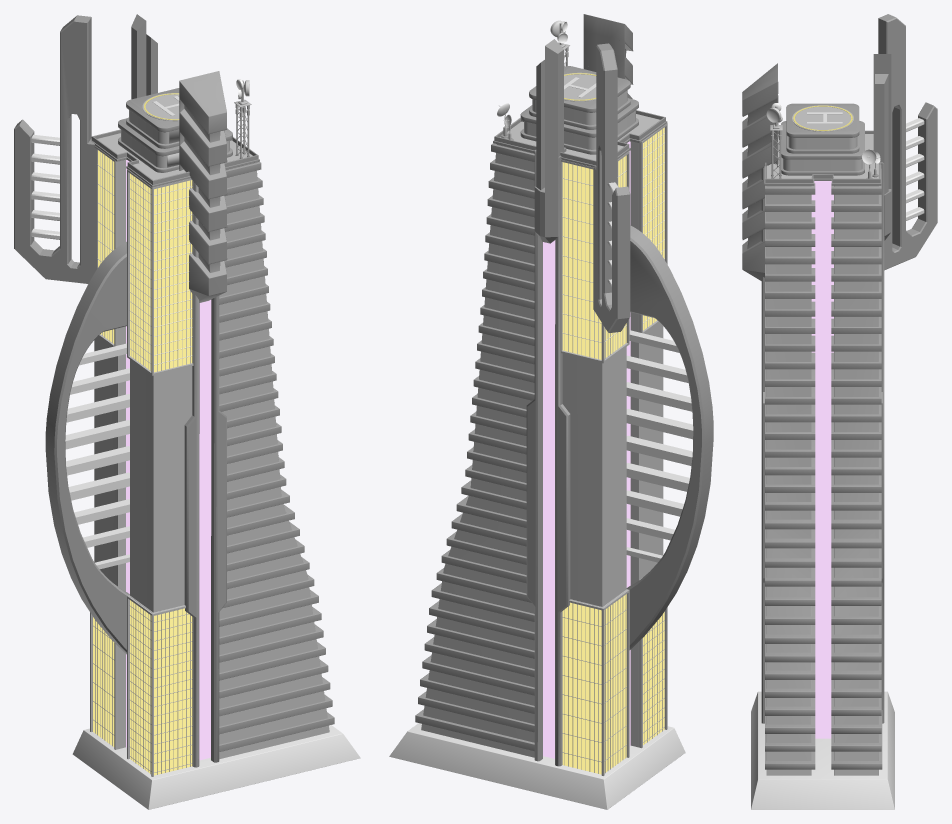
The picture shows the model from 3 angles, left to right: view 1: azimuth 30°, elevation 25°; view 2: azimuth 150°, elevation 25°; view 3: azimuth 270°, elevation 25°; orthographic projection. The views are drawn at different scales.
Parts seen in each view (by area): view 1: MainBody_2_Base_01_0, LowGridFrame_instance_Windows_0, LowGridFrame_instance_2_Windows_0, ExtrudeSideCurve_2_Base_03_0, Extrude_Base_03_0, Basement_4_Base_02_0, DetailedTopElement_2_Base_03_0, GlowLineInstance_2_Base_Glow_01_0, Extrude_Right_instance_2_Base_03_0, LowGrid_instance__0, LowGrid_2_Base_01_0, Extrude_Left_instance_2_Base_03_0 (+28 smaller); view 2: MainBody_2_Base_01_0, LowGridFrame_instance_2_Windows_0, ExtrudeSideCurve_2_Base_03_0, Basement_4_Base_02_0, LowGridFrame_instance_Windows_0, Extrude_Base_03_0, Extrude_Left_instance_Base_03_0, GlowLineInstance_2_2_Base_Glow_01_0, LowGrid_2_Base_01_0, Extrude_Right_instance_Base_03_0, TopTwinElement_Base_03_0, LowGrid_instance__0 (+31 smaller); view 3: MainBody_2_Base_01_0, GlowLineInstance_2_3_Base_Glow_01_0, Basement_4_Base_02_0, Extrude_Base_03_0, DetailedTopElement_2_Base_03_0, TopTwinElement_Base_03_0, Extrude_Left_instance_Base_03_0, Extrude_Right_instance_2_Base_03_0, TopPart_01_Basement_instance_Base_03_0, HelicopterPlace_Base_01_0, TopFence_4_Base_03_0, TopPart_01_Main_4_Base_01_0 (+70 smaller).
Boxes of the visible parts, bbox=[...] form: MainBody_2_Base_01_0: bbox=[94, 133, 329, 759]; LowGridFrame_instance_Windows_0: bbox=[98, 150, 192, 372]; LowGridFrame_instance_2_Windows_0: bbox=[93, 600, 192, 775]; ExtrudeSideCurve_2_Base_03_0: bbox=[45, 241, 129, 654]; Extrude_Base_03_0: bbox=[14, 15, 97, 283]; Basement_4_Base_02_0: bbox=[72, 725, 360, 809]; DetailedTopElement_2_Base_03_0: bbox=[179, 71, 227, 302]; GlowLineInstance_2_Base_Glow_01_0: bbox=[199, 300, 211, 760]; Extrude_Right_instance_2_Base_03_0: bbox=[211, 296, 226, 762]; LowGrid_instance__0: bbox=[97, 149, 192, 371]; LowGrid_2_Base_01_0: bbox=[92, 596, 192, 774]; Extrude_Left_instance_2_Base_03_0: bbox=[184, 182, 199, 767]; MainBody_2_Base_01_0: bbox=[421, 114, 663, 757]; LowGridFrame_instance_2_Windows_0: bbox=[562, 594, 664, 774]; ExtrudeSideCurve_2_Base_03_0: bbox=[626, 225, 713, 649]; Basement_4_Base_02_0: bbox=[389, 723, 685, 809]; LowGridFrame_instance_Windows_0: bbox=[562, 127, 664, 359]; Extrude_Base_03_0: bbox=[593, 43, 630, 332]; Extrude_Left_instance_Base_03_0: bbox=[526, 150, 542, 761]; GlowLineInstance_2_2_Base_Glow_01_0: bbox=[543, 240, 555, 758]; LowGrid_2_Base_01_0: bbox=[562, 590, 664, 773]; Extrude_Right_instance_Base_03_0: bbox=[555, 155, 570, 766]; TopTwinElement_Base_03_0: bbox=[534, 39, 563, 243]; LowGrid_instance__0: bbox=[562, 127, 664, 359]; MainBody_2_Base_01_0: bbox=[766, 134, 878, 775]; GlowLineInstance_2_3_Base_Glow_01_0: bbox=[811, 181, 833, 738]; Basement_4_Base_02_0: bbox=[751, 691, 894, 809]; Extrude_Base_03_0: bbox=[878, 14, 937, 270]; DetailedTopElement_2_Base_03_0: bbox=[742, 63, 778, 280]; TopTwinElement_Base_03_0: bbox=[873, 54, 891, 240]; Extrude_Left_instance_Base_03_0: bbox=[879, 162, 884, 723]; Extrude_Right_instance_2_Base_03_0: bbox=[761, 168, 764, 723]; TopPart_01_Basement_instance_Base_03_0: bbox=[786, 103, 859, 137]; HelicopterPlace_Base_01_0: bbox=[792, 105, 853, 131]; TopFence_4_Base_03_0: bbox=[764, 130, 881, 185]; TopPart_01_Main_4_Base_01_0: bbox=[783, 158, 862, 171].
Size of the model in its own units: 53.2 by 137 by 34.88.
